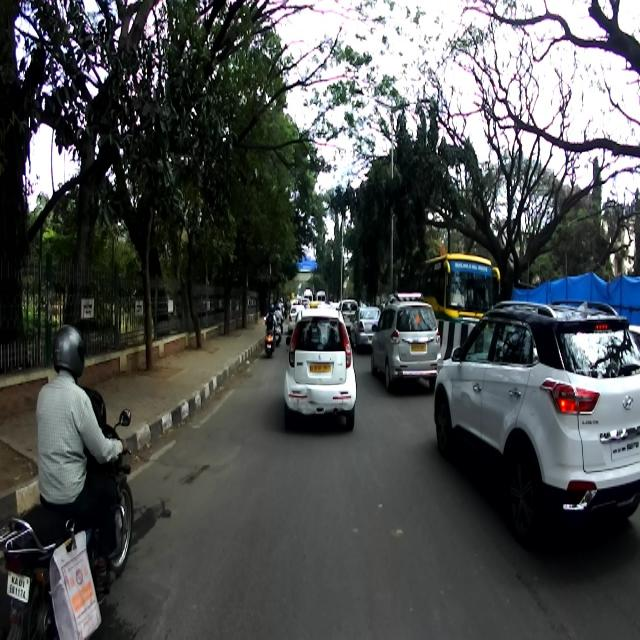car: (434, 301, 640, 547), (282, 306, 358, 430), (370, 291, 441, 393)
motorcycle: (0, 408, 132, 639)
